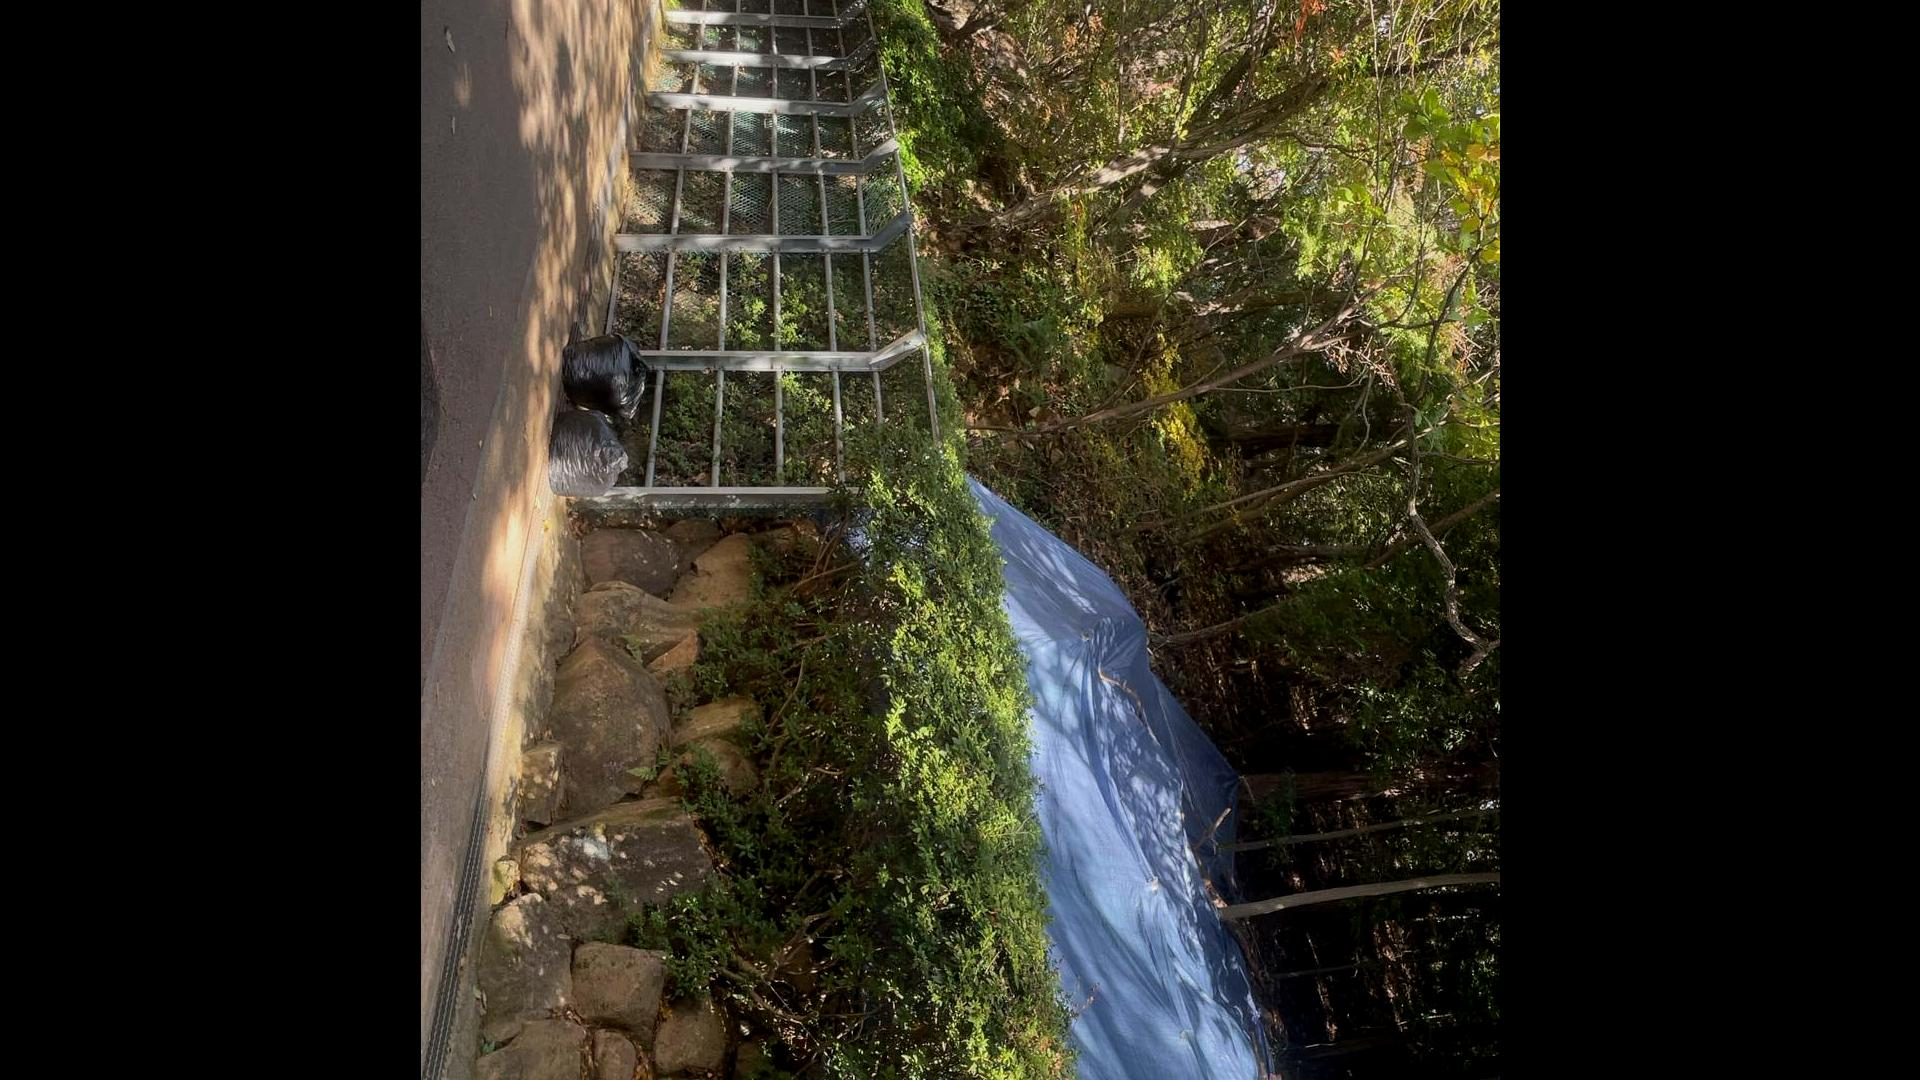black_bag: (558, 328, 651, 415), (550, 405, 632, 501)
